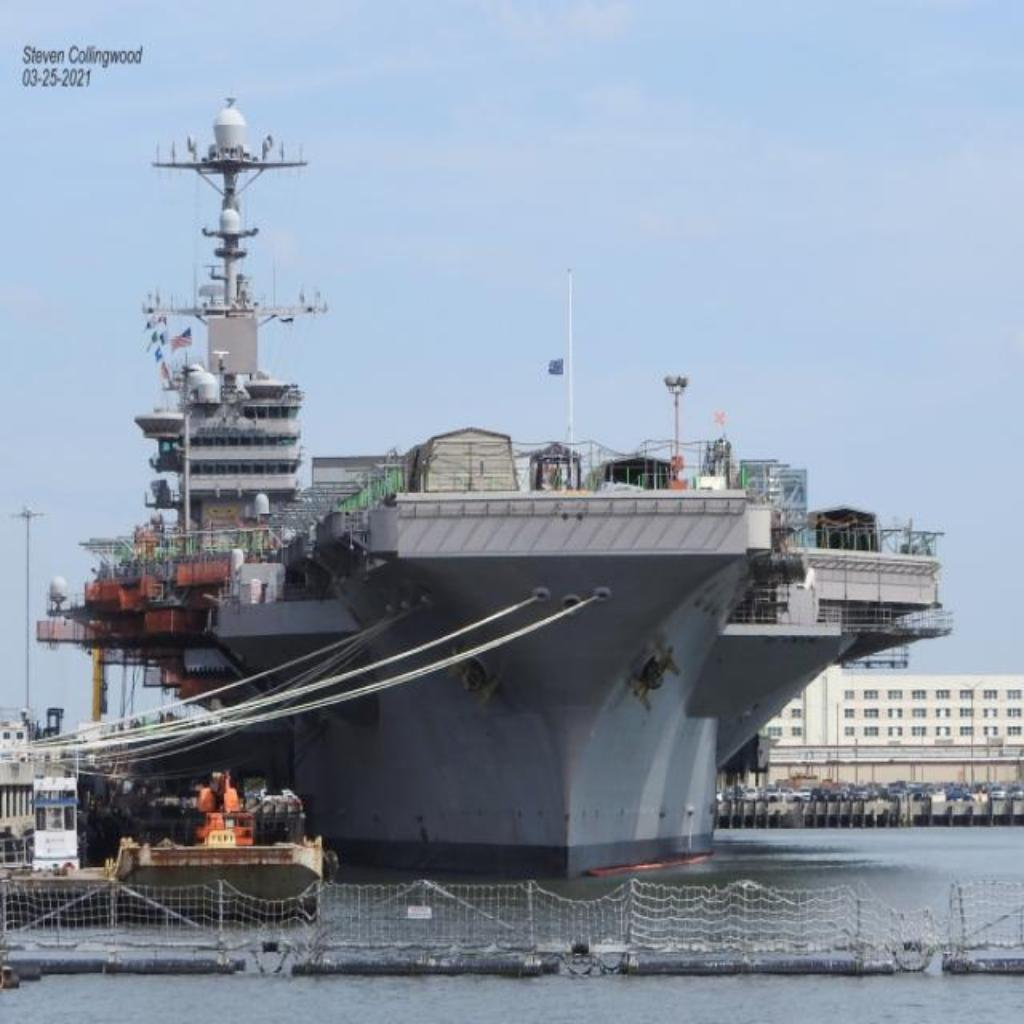Warship: (36, 90, 958, 880)
